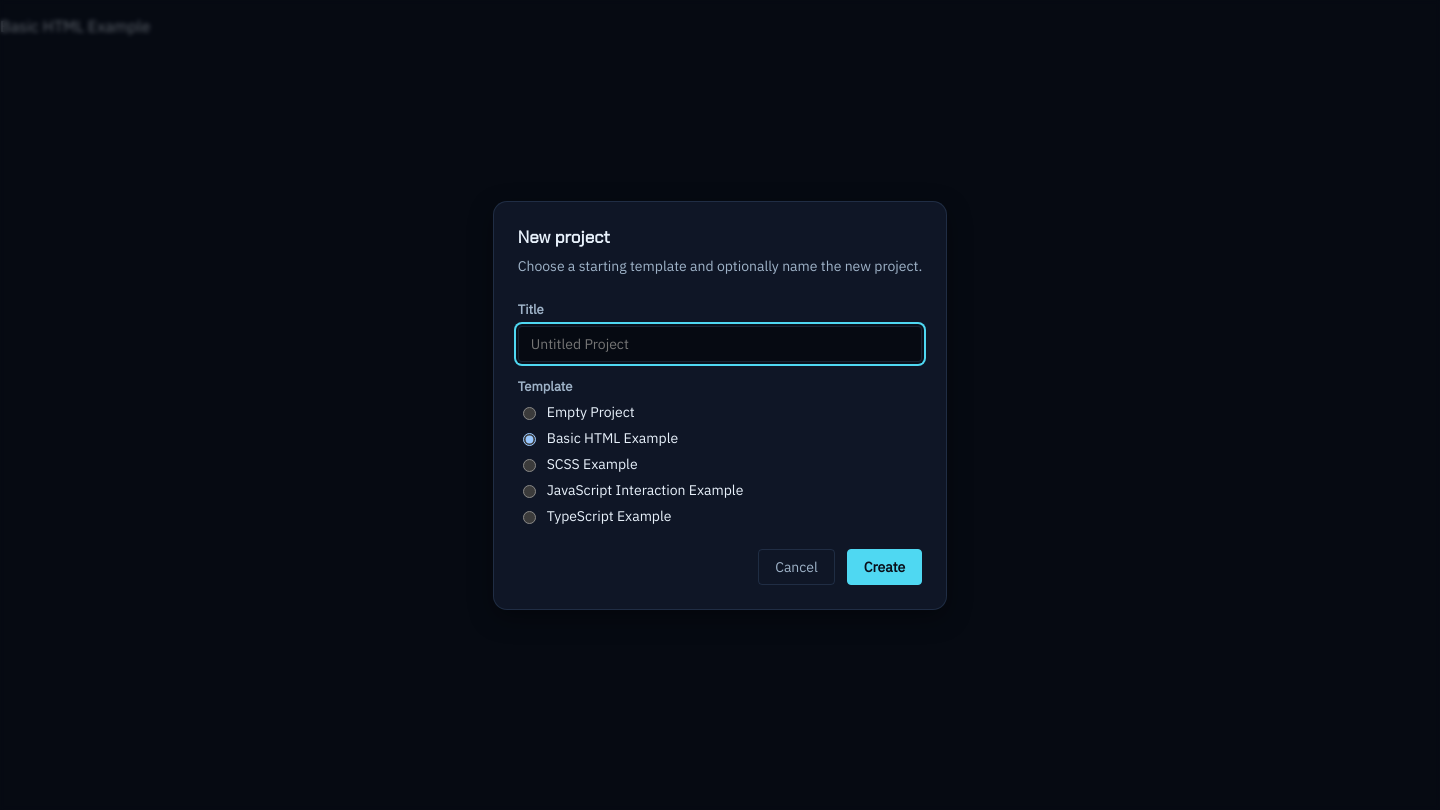
Test: NewProjectDialog › falls back to the template's default title when left blank
Click the radio button labelled "Empty Project" at x=529, y=413, box [523,406,536,420]
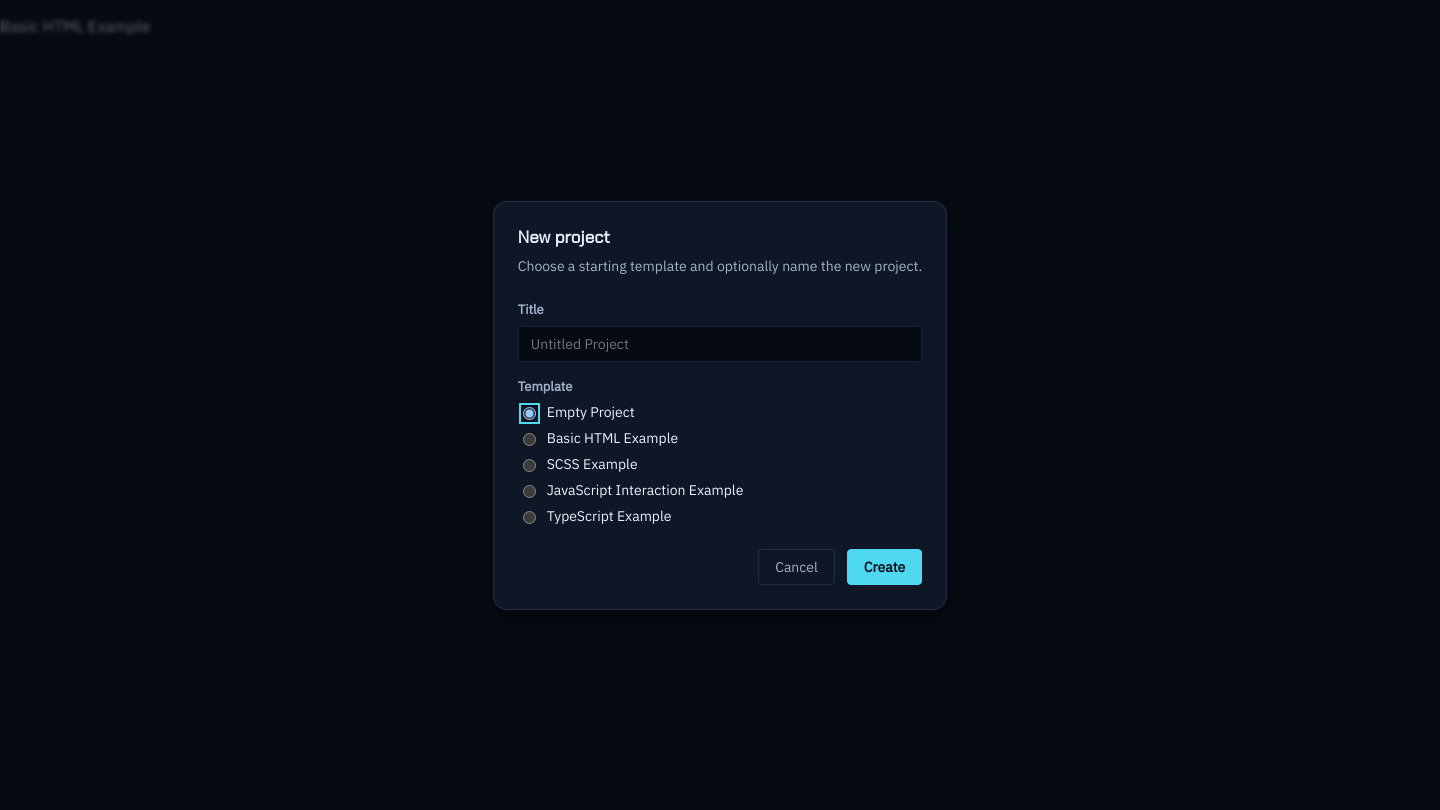
Click the button "Create" at x=885, y=566, box [847,548,922,584]
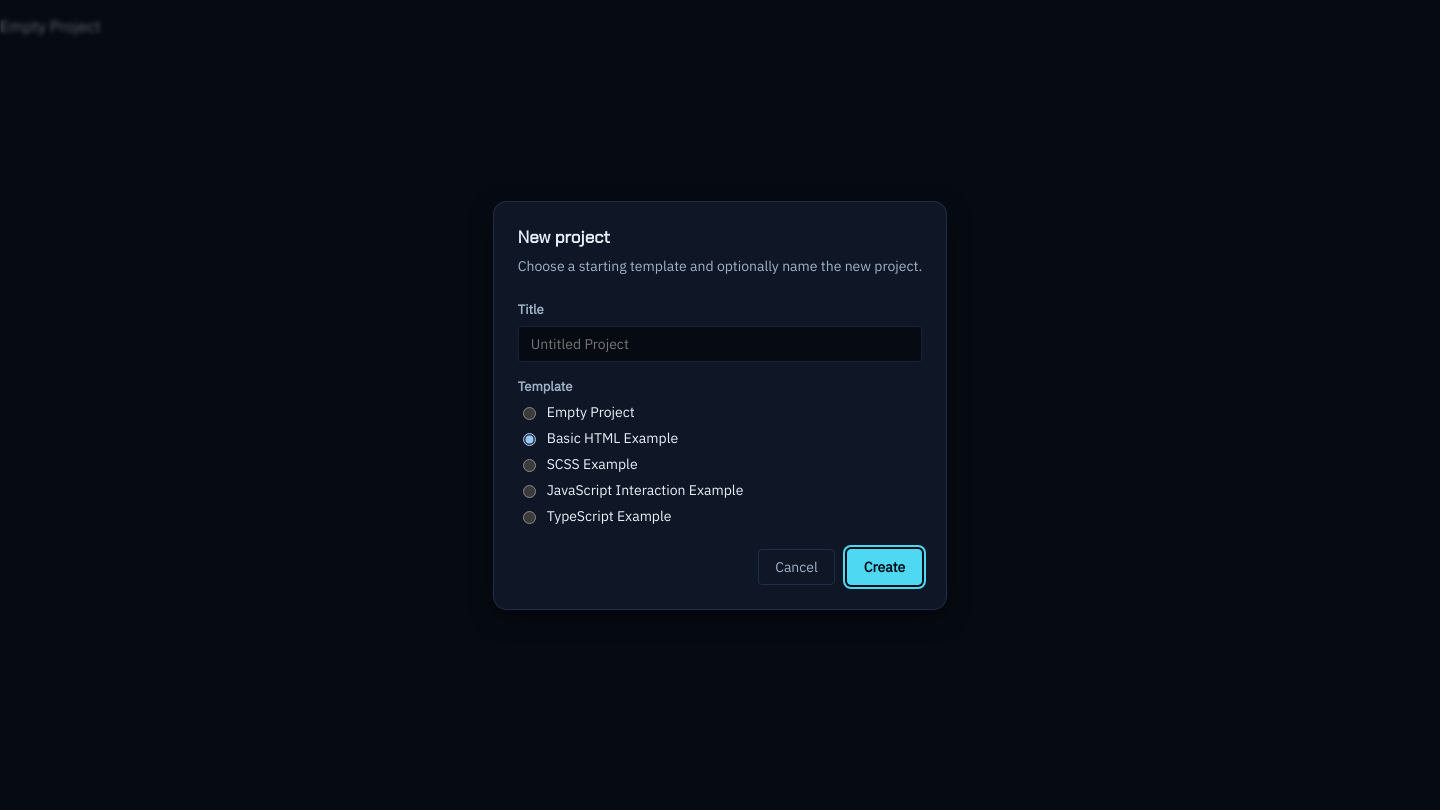
Expected: the text with test id "active-title" reads "Empty Project", [0,16,101,36]
